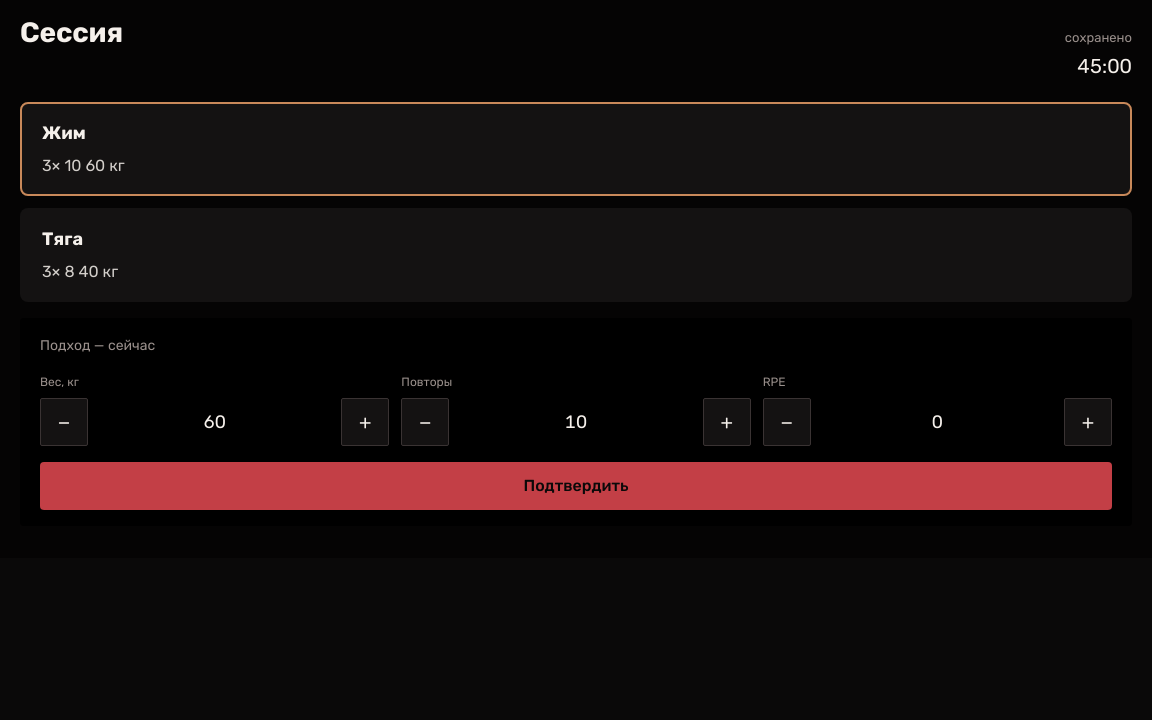
SessionWorkoutView › starts rest after last exercise in superset round
The image size is (1152, 720).
Click the button with test id "session-set-confirm": (576, 486) top-left (40, 462), bottom-right (1112, 510)
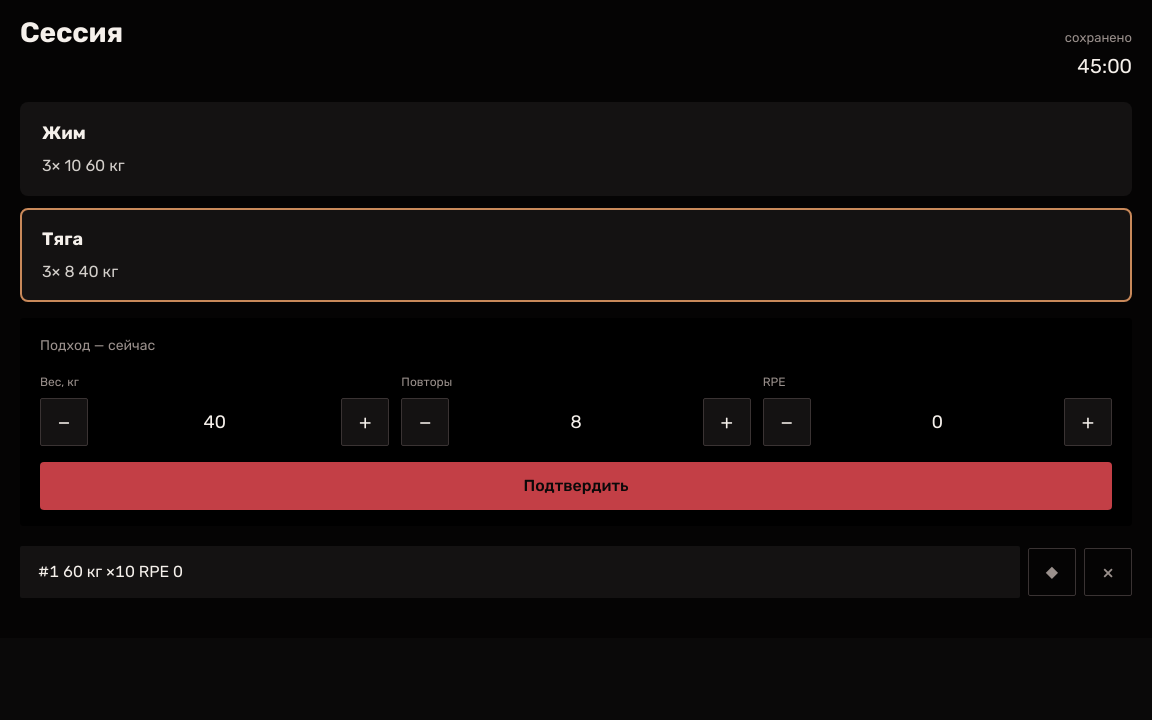
Expected: the text with test id "session-set-sync-indicator" reads "сохранено", top-left (1065, 30), bottom-right (1132, 45)
Click the button with test id "session-set-confirm": (576, 486) top-left (40, 462), bottom-right (1112, 510)
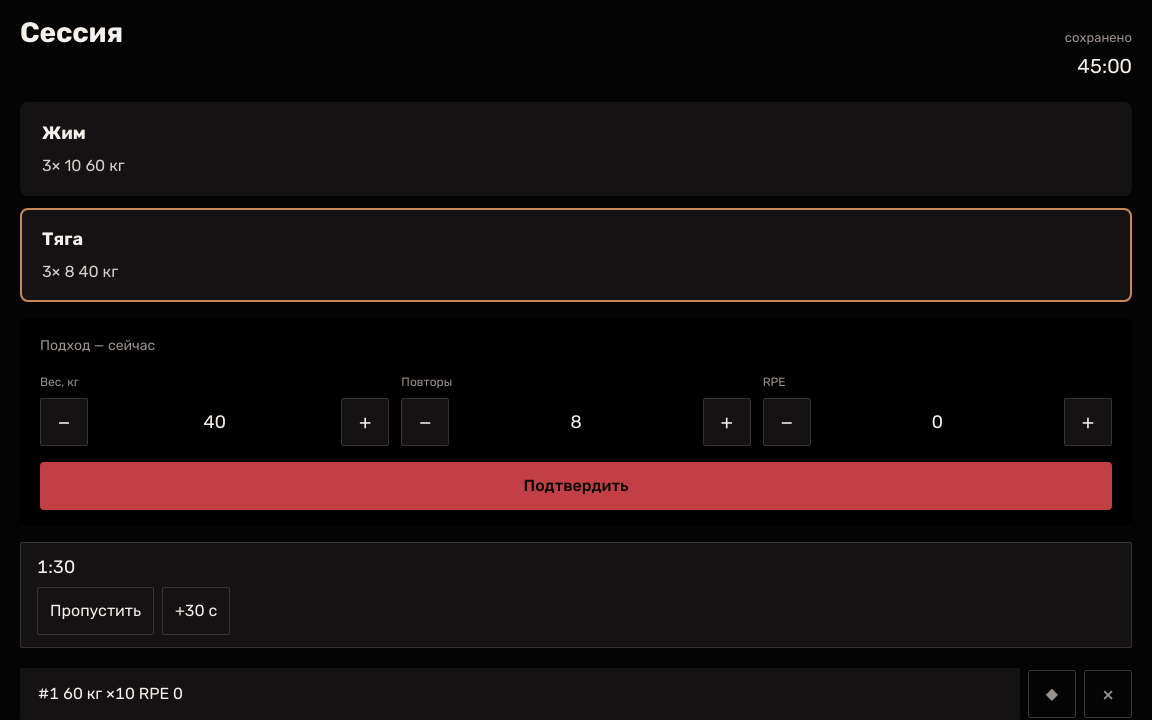
Result: the text with test id "session-rest-timer-label" reads "1:30" at top-left (37, 556), bottom-right (75, 578)
